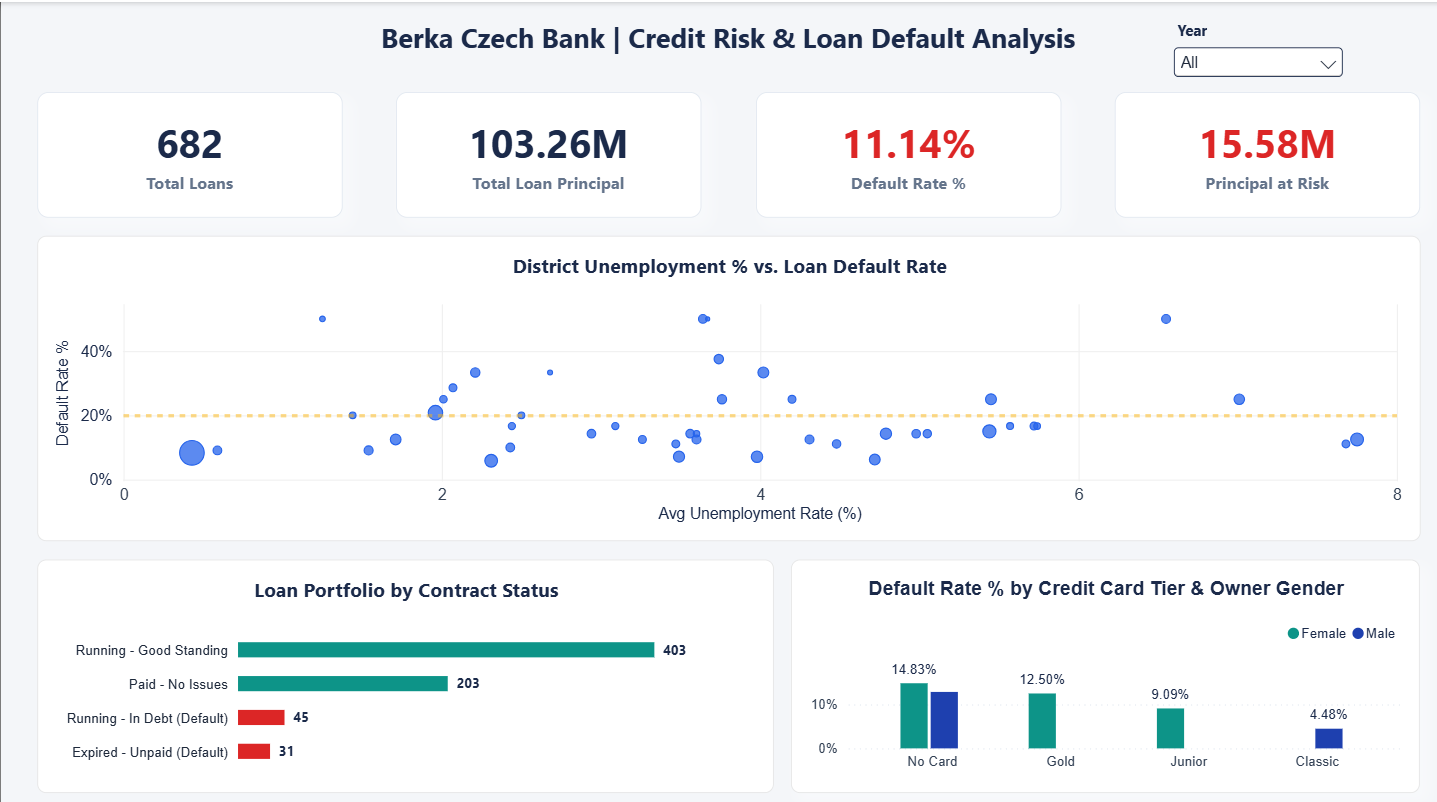

This screenshot's page, from the dashboard's own definition file:
{"tool":"powerbi","page":{"name":"Credit Risk & Defaults","canvas":[1280,720],"ordinal":1},"visuals":[{"type":"textbox","box":[16,16,1264,48],"z":0},{"type":"slicer","fields":{"Values":["DimDate.Year"]},"box":[1040,16,160,64],"z":1000},{"type":"card","fields":{"Values":["_Measures.Total Loans"]},"box":[32,80,272,112],"z":2000},{"type":"card","fields":{"Values":["_Measures.Principal at Risk"]},"box":[992,80,272,112],"z":3000},{"type":"card","fields":{"Values":["_Measures.Default Rate %"]},"box":[672,80,272,112],"z":4000},{"type":"card","fields":{"Values":["_Measures.Total Loan Principal"]},"box":[352,80,272,112],"z":5000},{"type":"clusteredColumnChart","title":"Default Rate % by Credit Card Tier & Owner Gender","fields":{"Category":["vw_account_owner_dim.card_type"],"Series":["vw_account_owner_dim.owner_gender"],"Y":["_Measures.Default Rate %"]},"box":[704,496,560,208],"z":6000},{"type":"barChart","title":"Loan Portfolio by Contract Status","fields":{"Category":["loan.status_desc"],"Y":["_Measures.Total Loans"]},"box":[32,496,656,208],"z":7000},{"type":"scatterChart","title":"District Unemployment % vs. Loan Default Rate","fields":{"Category":["vw_account_owner_dim.district_name"],"Size":["_Measures.Total Loan Principal"],"X":["Avg(vw_account_owner_dim.district_unemployment_pct)"],"Y":["_Measures.Default Rate %"]},"box":[32,208,1232,272],"z":8000}]}

Visuals, with their boxes in screenshot pixels (x1, y1, x2, y2), scaled from the page's 1280x720 canvas onto the 1437x802 screenshot:
textbox: bbox=[18, 18, 1436, 71]
slicer - DimDate.Year: bbox=[1168, 18, 1347, 89]
card - _Measures.Total Loans: bbox=[36, 89, 341, 214]
card - _Measures.Principal at Risk: bbox=[1114, 89, 1419, 214]
card - _Measures.Default Rate %: bbox=[754, 89, 1060, 214]
card - _Measures.Total Loan Principal: bbox=[395, 89, 701, 214]
"Default Rate % by Credit Card Tier & Owner Gender" clusteredColumnChart: bbox=[790, 552, 1419, 784]
"Loan Portfolio by Contract Status" barChart: bbox=[36, 552, 772, 784]
"District Unemployment % vs. Loan Default Rate" scatterChart: bbox=[36, 232, 1419, 535]
